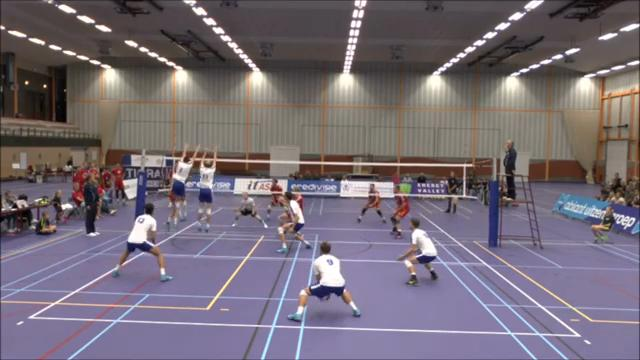muro: (164, 140, 199, 229), (195, 144, 218, 234)
